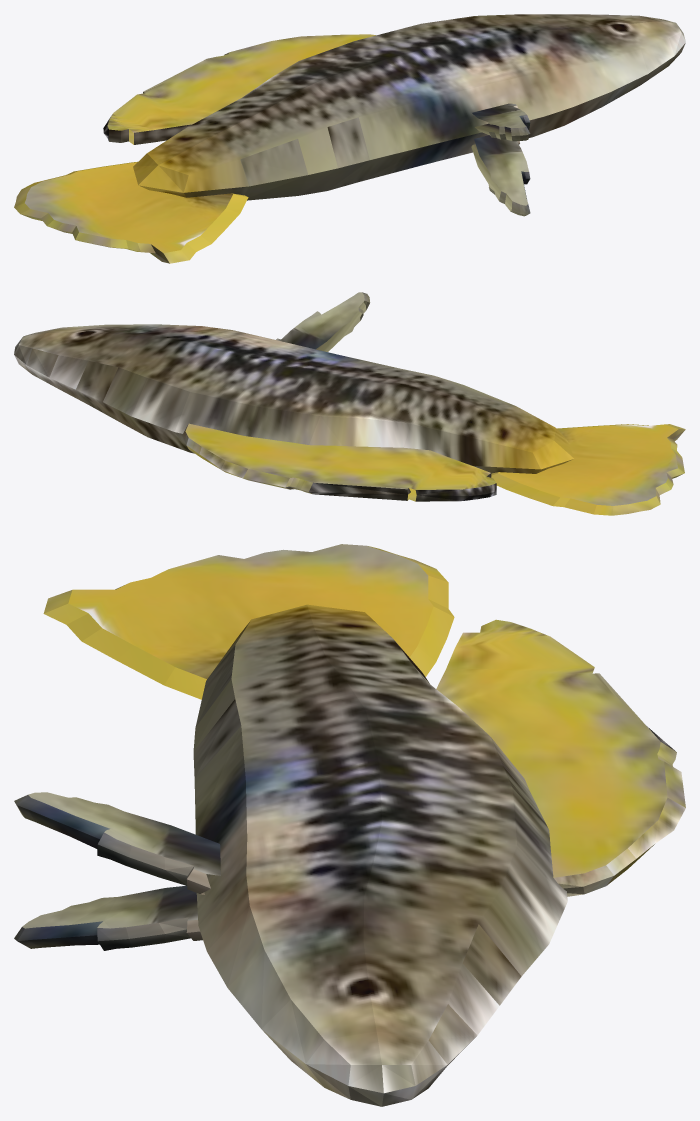
Rendered from xifo_texture.fbx.
3 views of the same model, one above another, from view 1: azimuth 30°, elevation 25°; view 2: azimuth 150°, elevation 25°; view 3: azimuth 270°, elevation 25° (orthographic). The views are drawn at different scales.
Visible parts, largest first — view 1: Aleta inferior.001; view 2: Aleta inferior.001; view 3: Aleta inferior.001.
Boxes of the visible parts, x1,y1,x2,y2 form: Aleta inferior.001: [14, 14, 685, 263]; Aleta inferior.001: [14, 292, 685, 515]; Aleta inferior.001: [14, 544, 685, 1106].
Size of the model in its own units: 689 by 89 by 348.
Materials: 4 (4 with a texture image).
